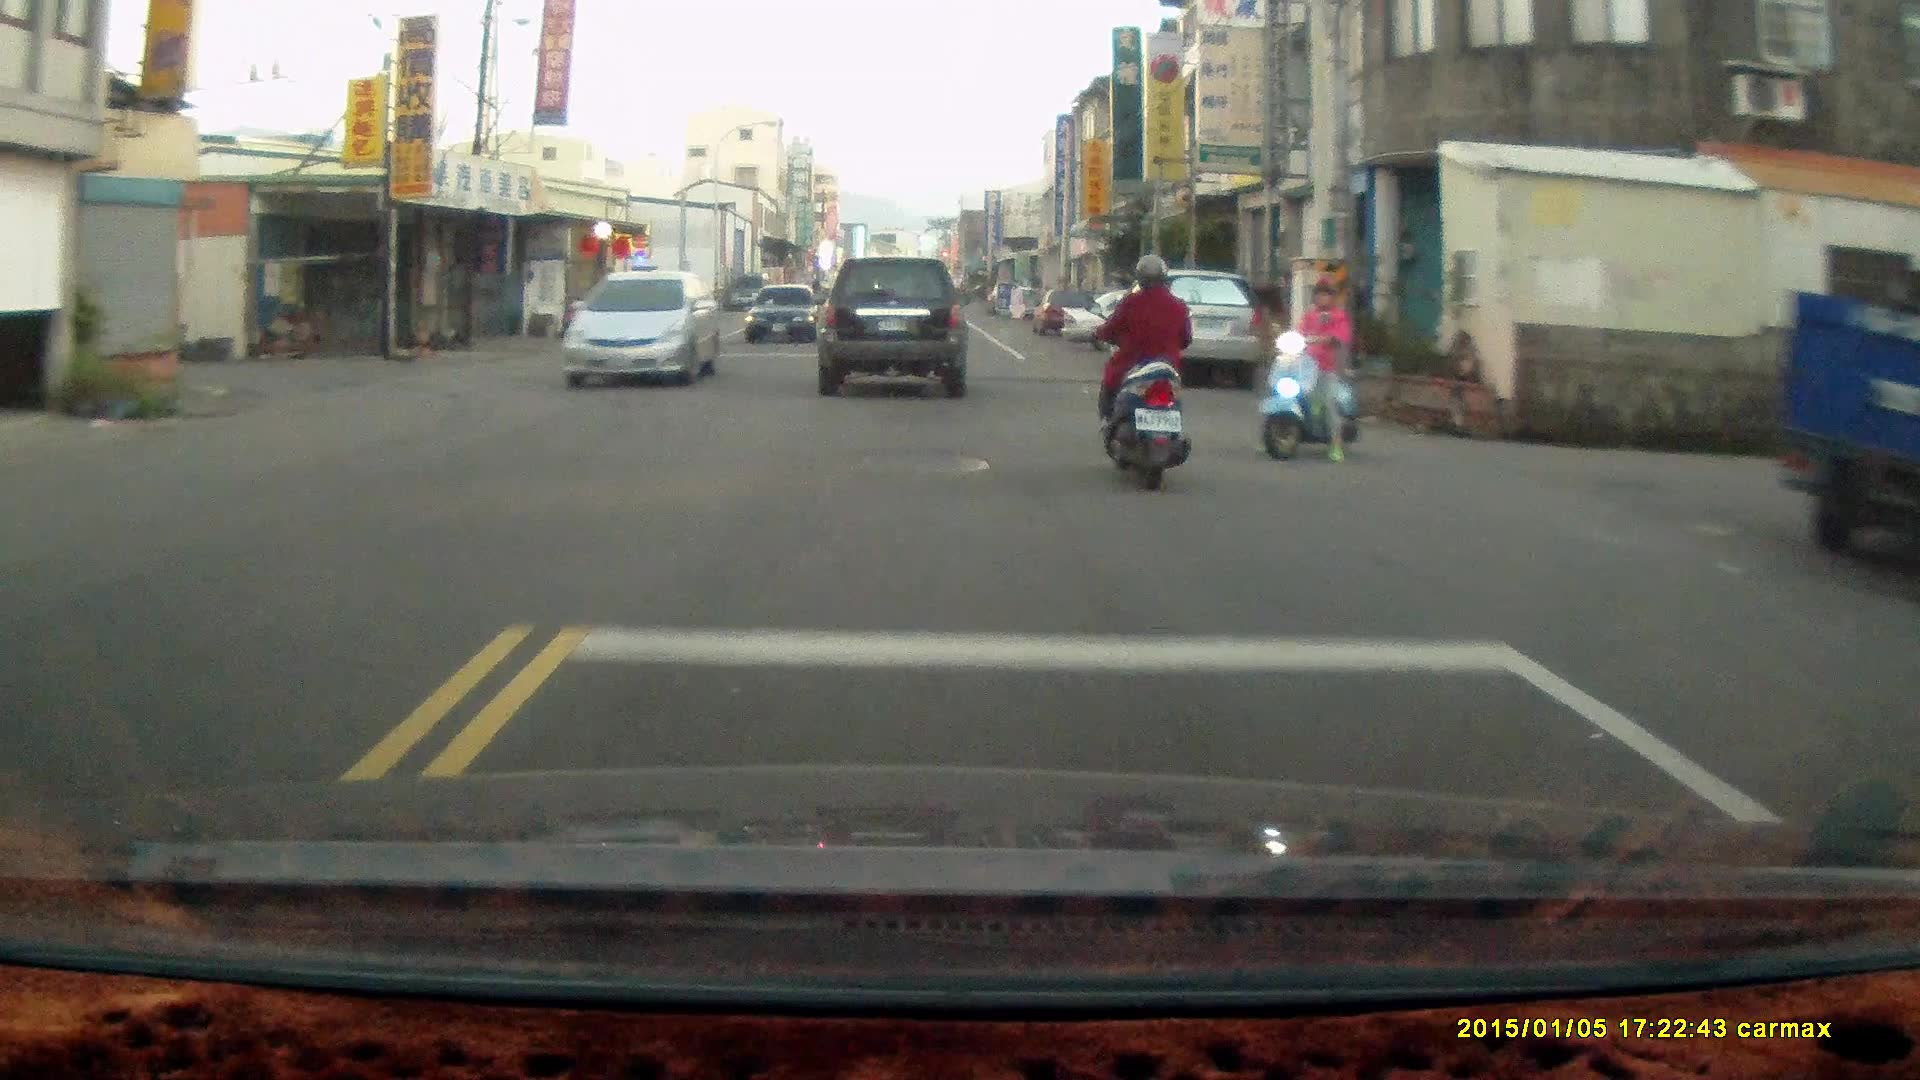rider: (1098, 253, 1191, 497), (1255, 270, 1367, 467)
vehicle: (1778, 243, 1920, 574), (816, 256, 970, 402), (559, 271, 723, 390), (1112, 271, 1268, 391), (747, 285, 822, 347)
